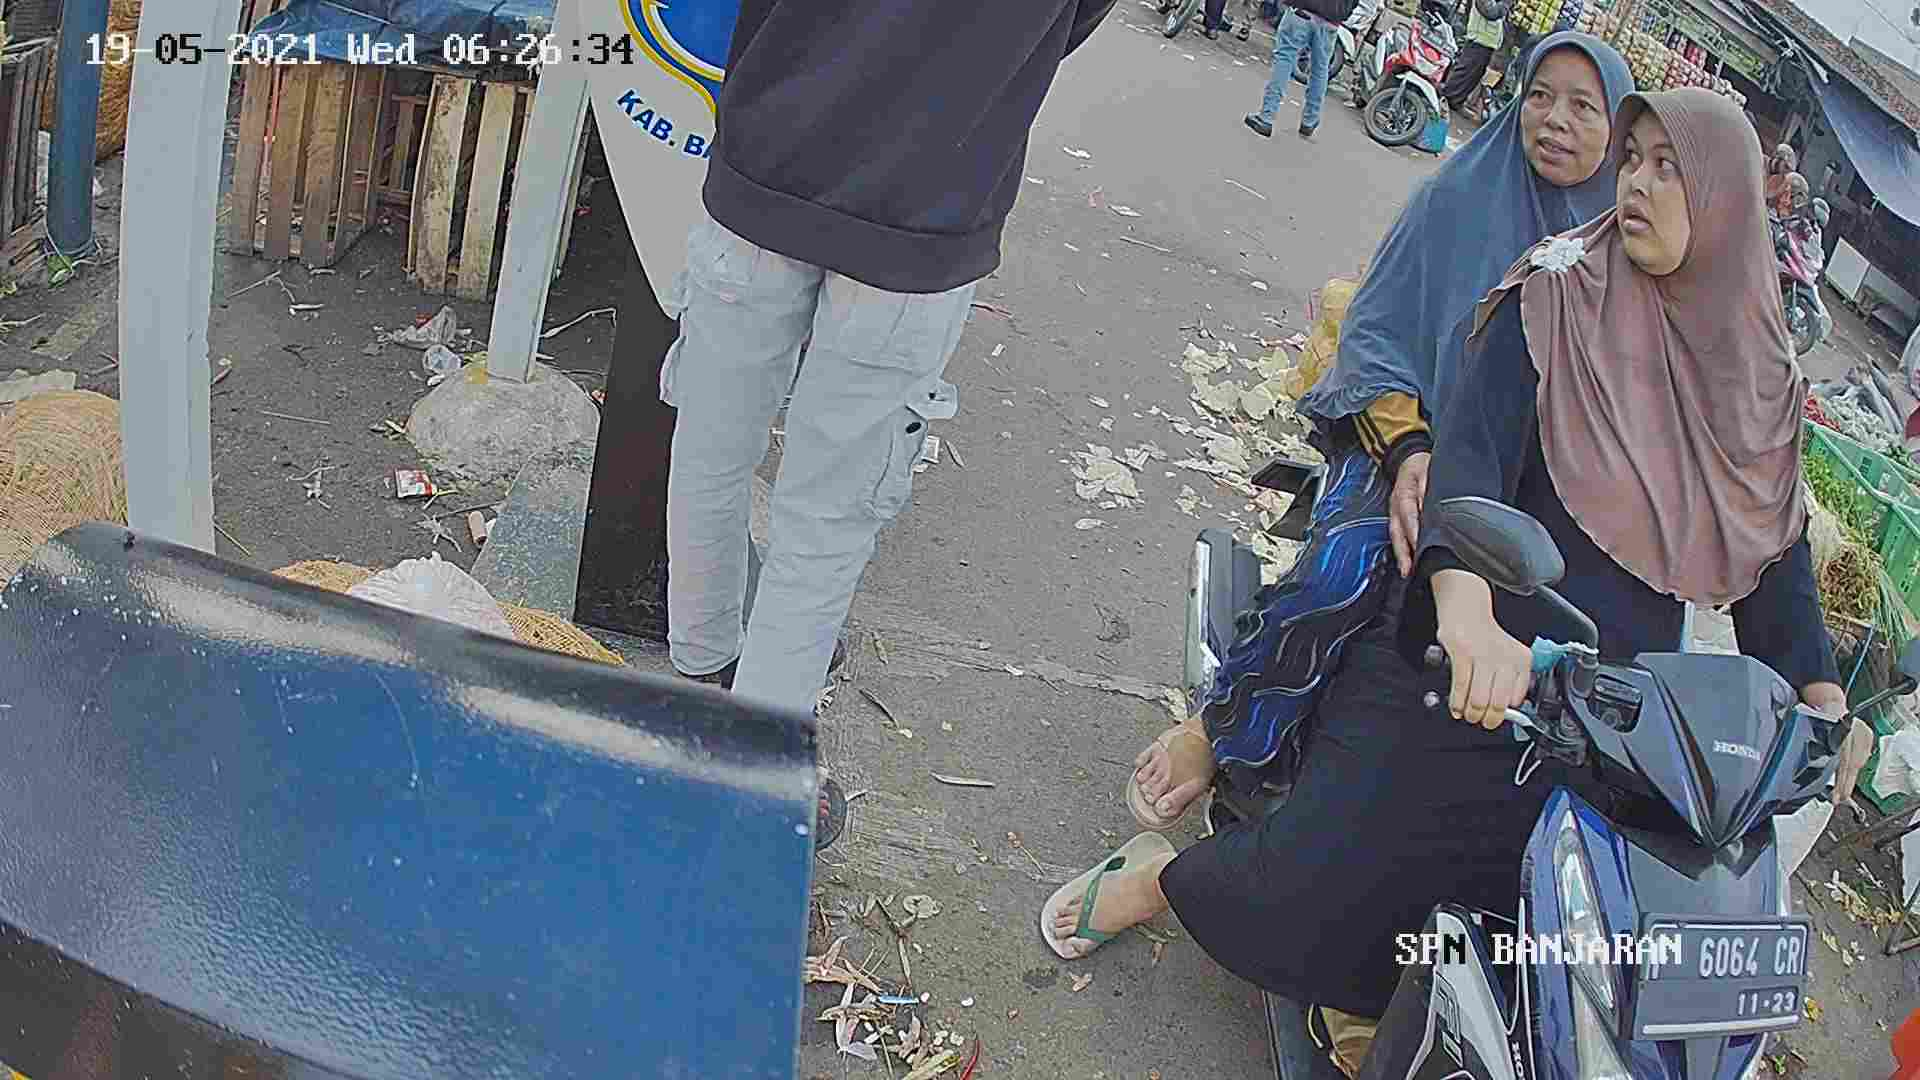motor: (1180, 413, 1842, 1080)
